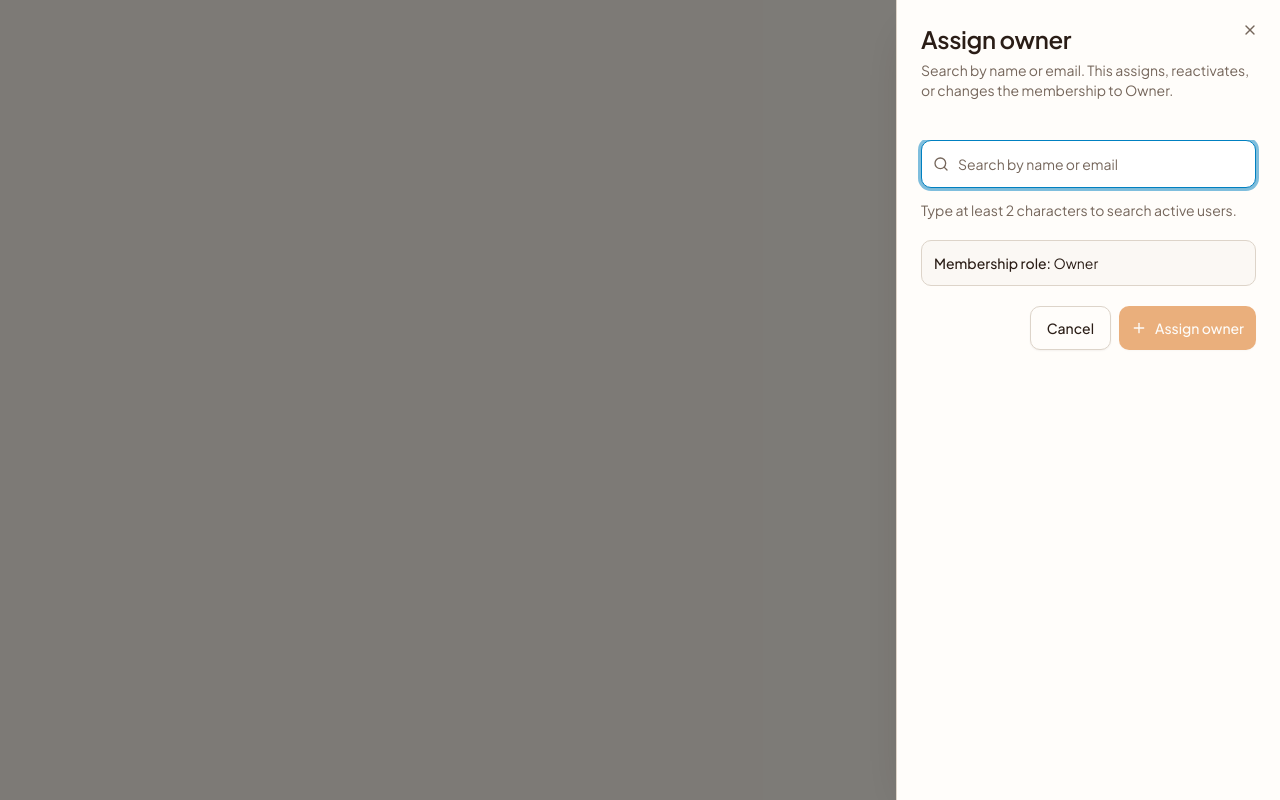
Test case: assign member drawer › searches users and confirms the owner assignment by name
Type "car" into the search field named "Search users by name or email" at (1088, 164), box [921, 140, 1256, 188]
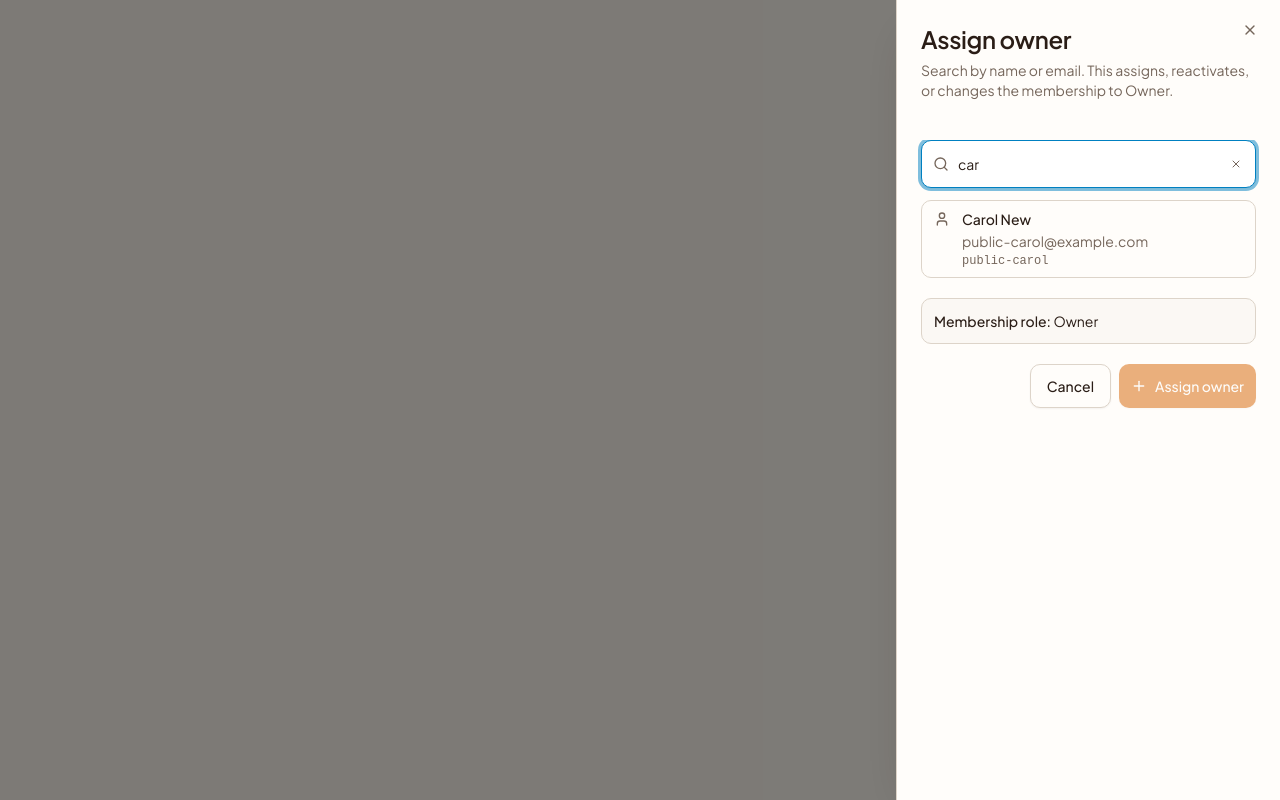
Click the radio button labelled "Carol New public-carol@example.com public-carol" at (1088, 239), box [921, 200, 1256, 278]
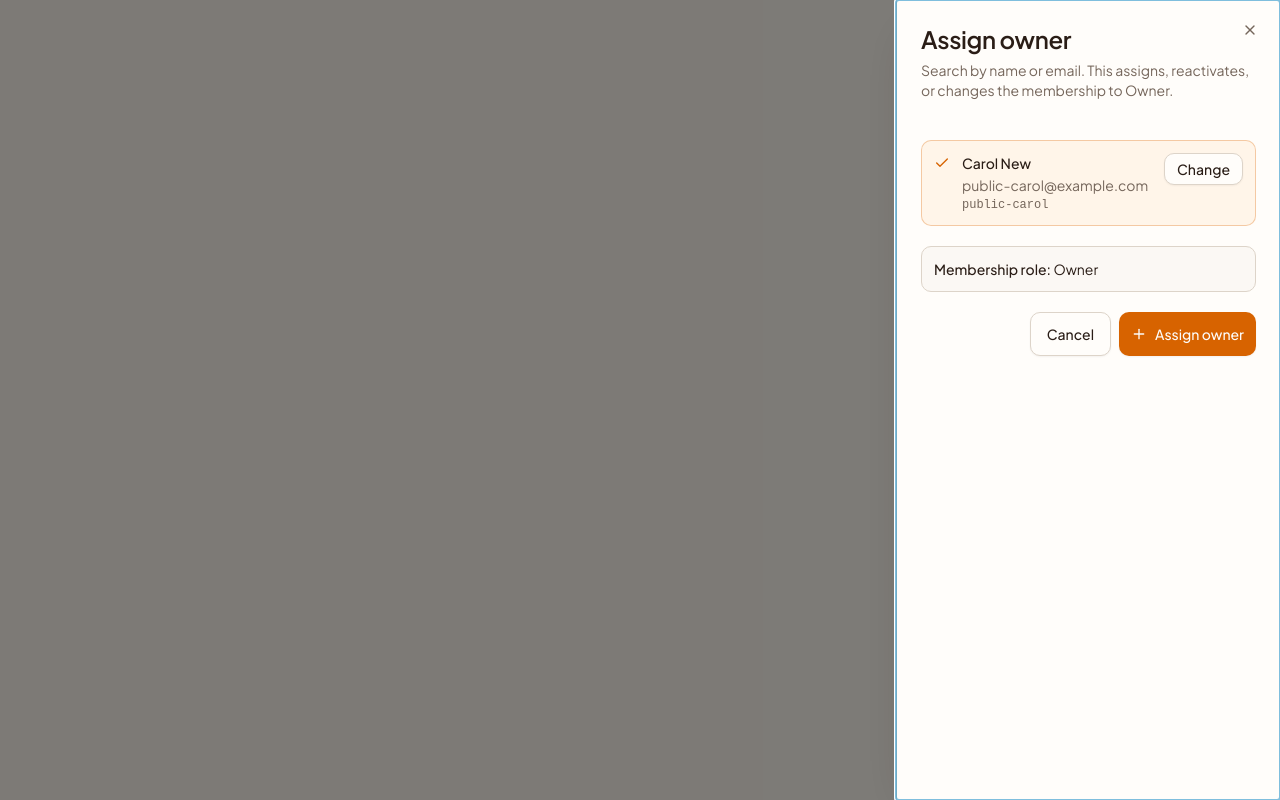
Check: the button "Change" is shown, box [1164, 153, 1243, 185]
Click the button "Assign owner" at (1188, 334), box [1119, 312, 1256, 356]
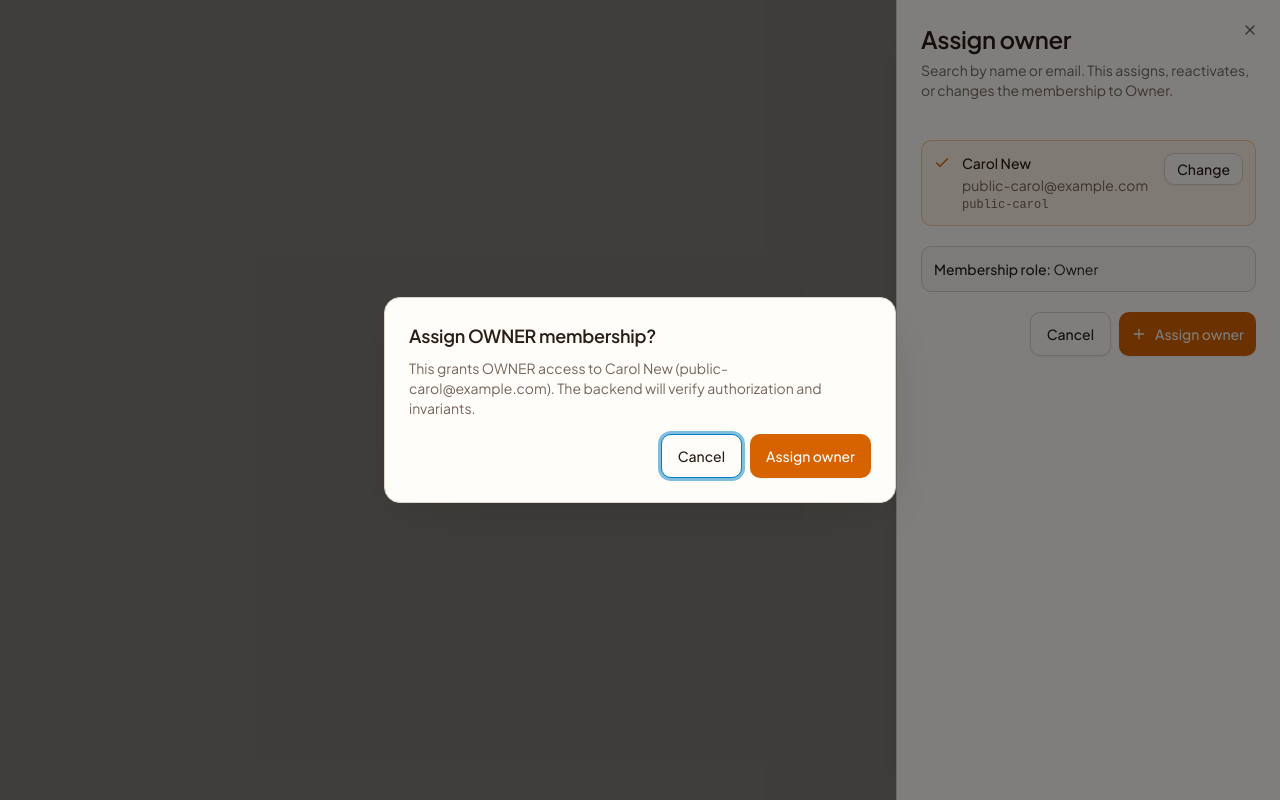
Check: the text "This grants OWNER access to Carol New (public-carol@example.com)" is shown, box [409, 359, 822, 417]
